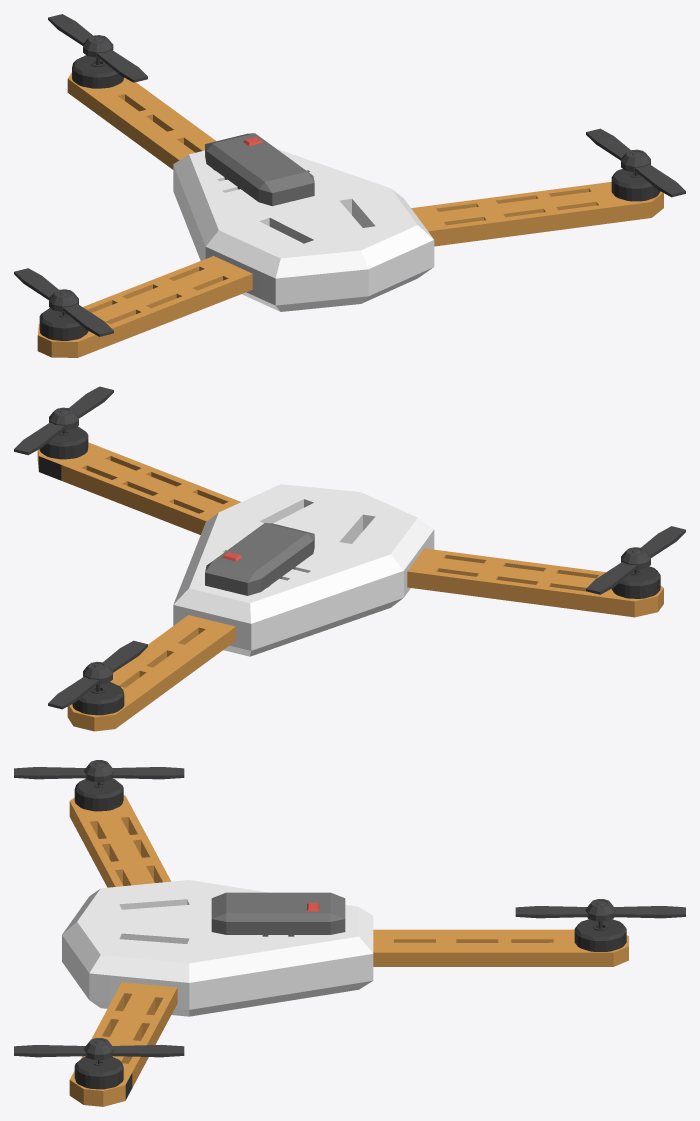
Rendered from ship_18.fbx.
3 views of the same model, one above another, from view 1: azimuth 30°, elevation 25°; view 2: azimuth 150°, elevation 25°; view 3: azimuth 270°, elevation 25° (orthographic).
Parts seen in each view (by area): view 1: body, box, prop_2, prop_3, prop_1; view 2: body, box, prop_1, prop_2, prop_3; view 3: body, box, prop_1, prop_3, prop_2.
Boxes of the visible parts, x1,y1,x2,y2 form: body: [37, 55, 663, 357]; box: [205, 133, 314, 206]; prop_2: [586, 128, 685, 197]; prop_3: [48, 14, 147, 82]; prop_1: [14, 268, 113, 336]; body: [37, 426, 663, 731]; box: [205, 523, 314, 595]; prop_1: [586, 526, 685, 594]; prop_2: [14, 386, 113, 455]; prop_3: [48, 640, 147, 709]; body: [62, 778, 628, 1106]; box: [211, 892, 345, 936]; prop_1: [14, 760, 184, 782]; prop_3: [515, 899, 685, 921]; prop_2: [14, 1038, 184, 1060].
Size of the model in its own units: 1088 by 125 by 1026.
